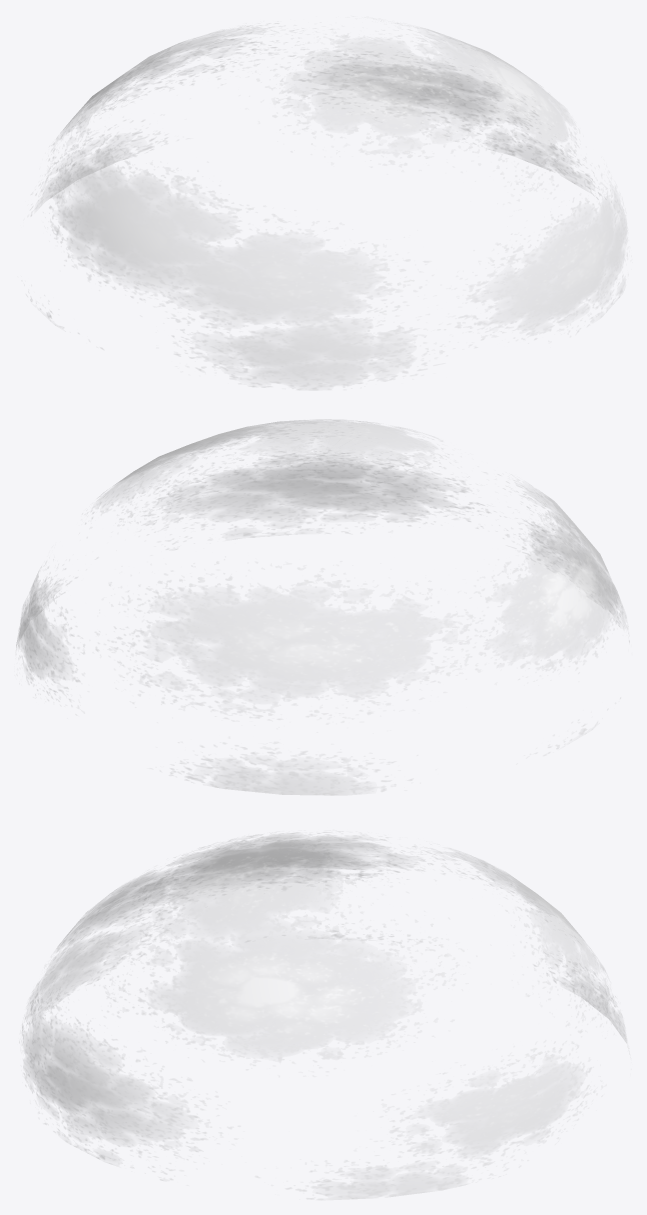
The model's file is sky-1.gltf.
The picture shows the model from 3 angles, top to bottom: view 1: azimuth 30°, elevation 25°; view 2: azimuth 150°, elevation 25°; view 3: azimuth 270°, elevation 25°; orthographic projection.
Parts seen in each view (by area): view 1: Clouds; view 2: Clouds; view 3: Clouds.
Part boxes in pixels (x1,y1,x2,y2): Clouds: (31,26,626,389); Clouds: (16,419,629,795); Clouds: (22,833,626,1198).
Size of the model in its own units: 758 by 281 by 758.
Materials: 1 (1 with a texture image).
